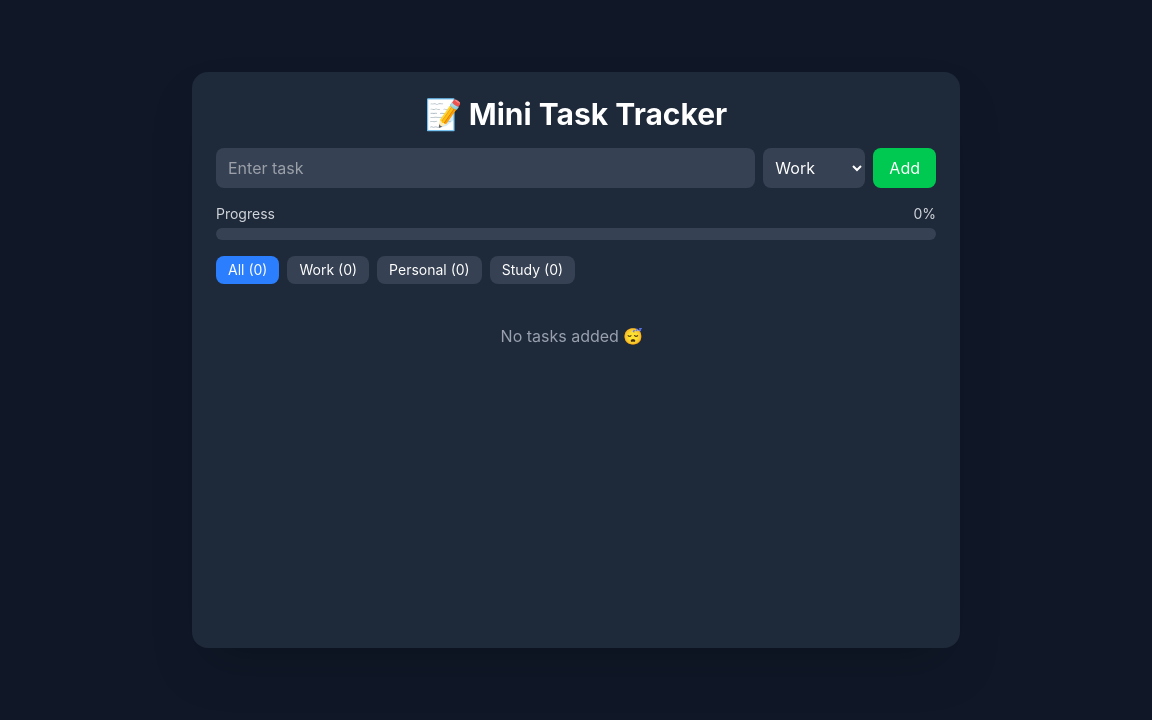
Test: App - Task Tracker › edits a task
Note: Create initial task
Type "Old Task" into the field at (486, 168), box [216,148,755,188]
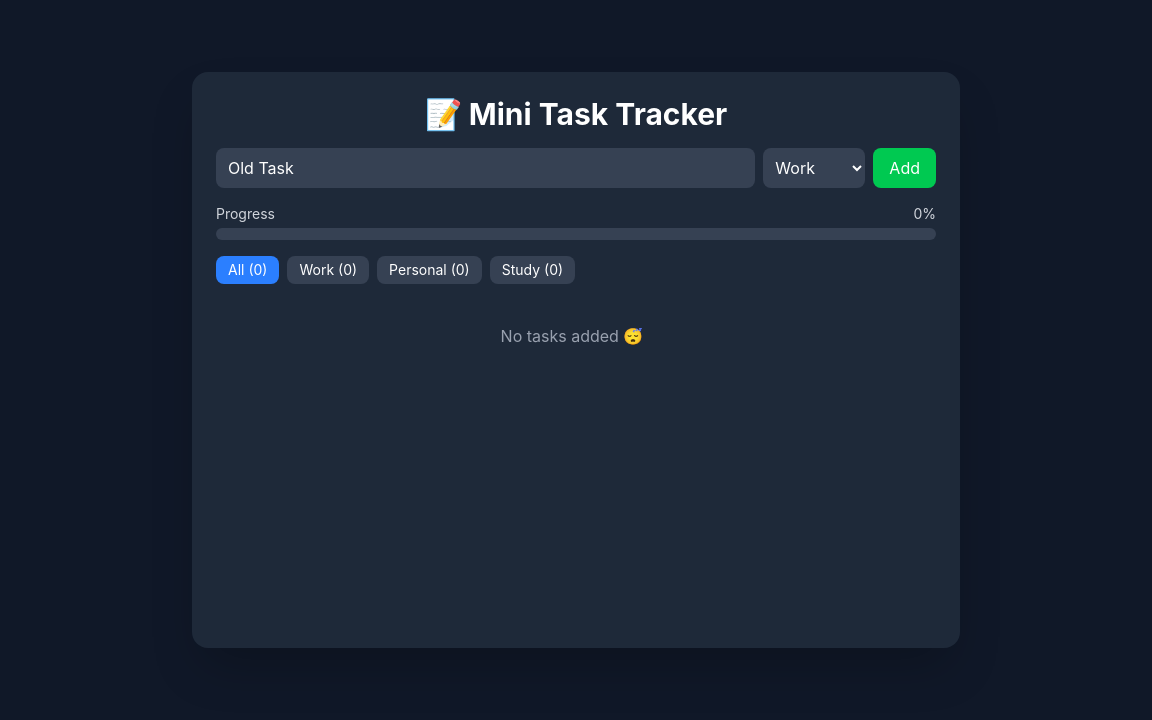
Click the button "Add" at (905, 168), box [873,148,936,188]
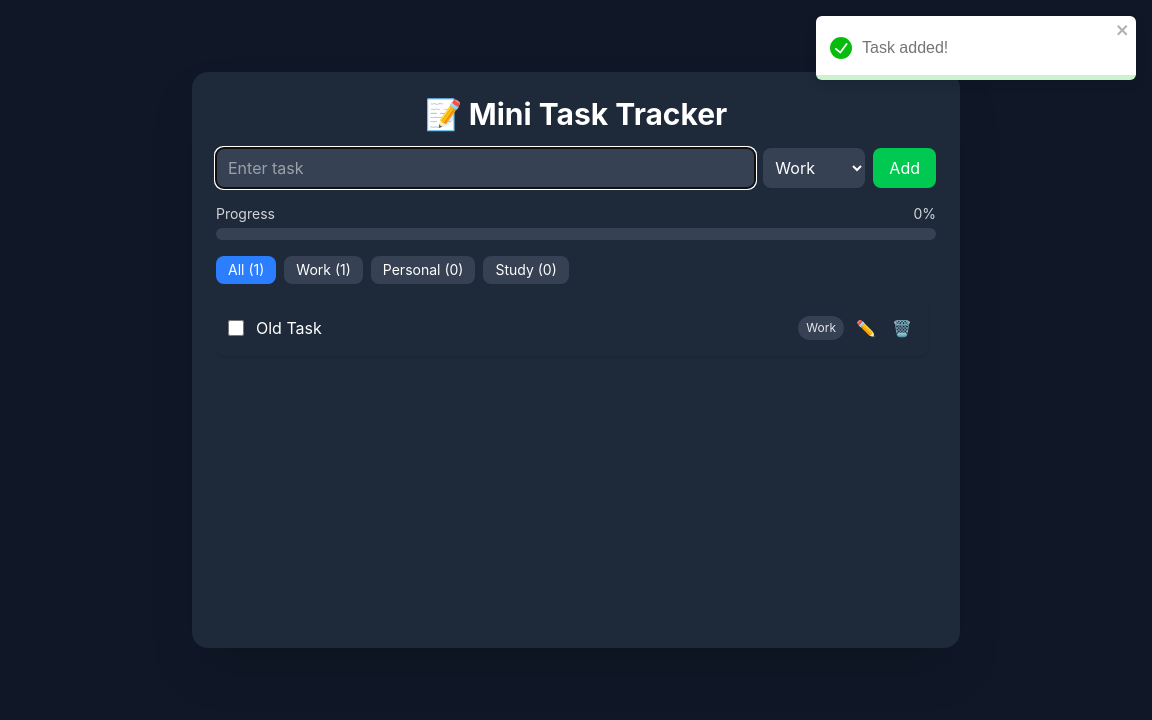
Click the button titled "Edit" at (866, 328), box [852,312,880,344]
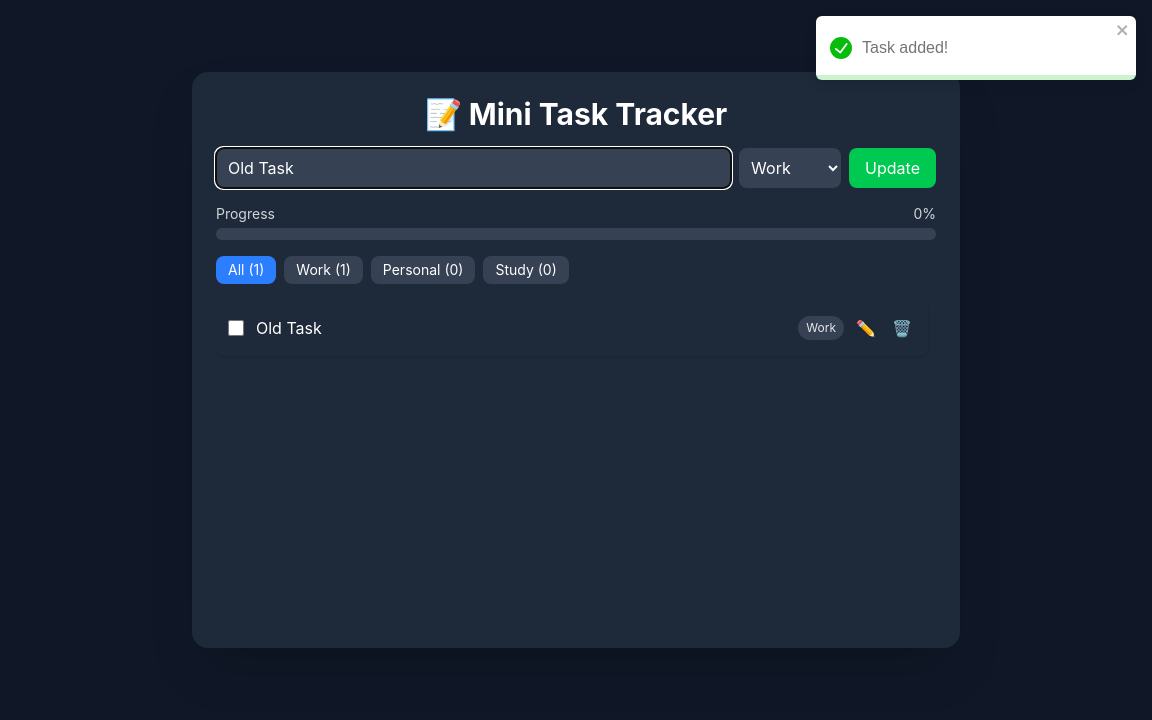
Replace the text in the field with "Updated Task" at (474, 168), box [216,148,731,188]
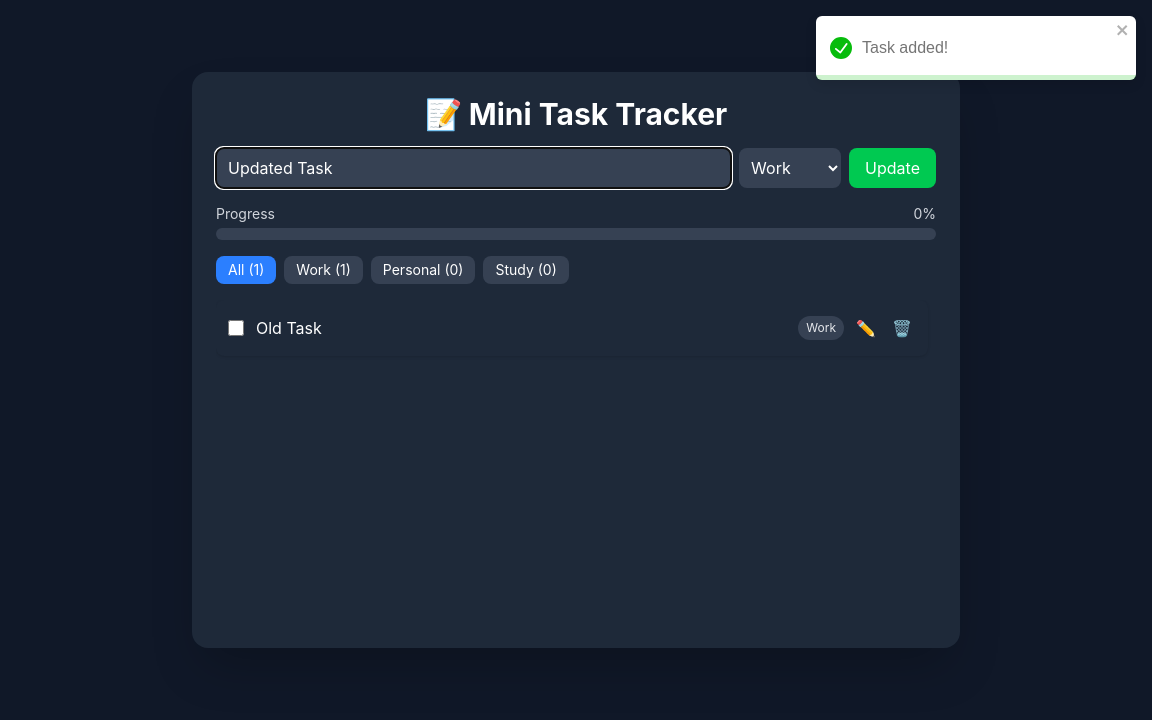
Click the button named "add" at (893, 168), box [849,148,936,188]
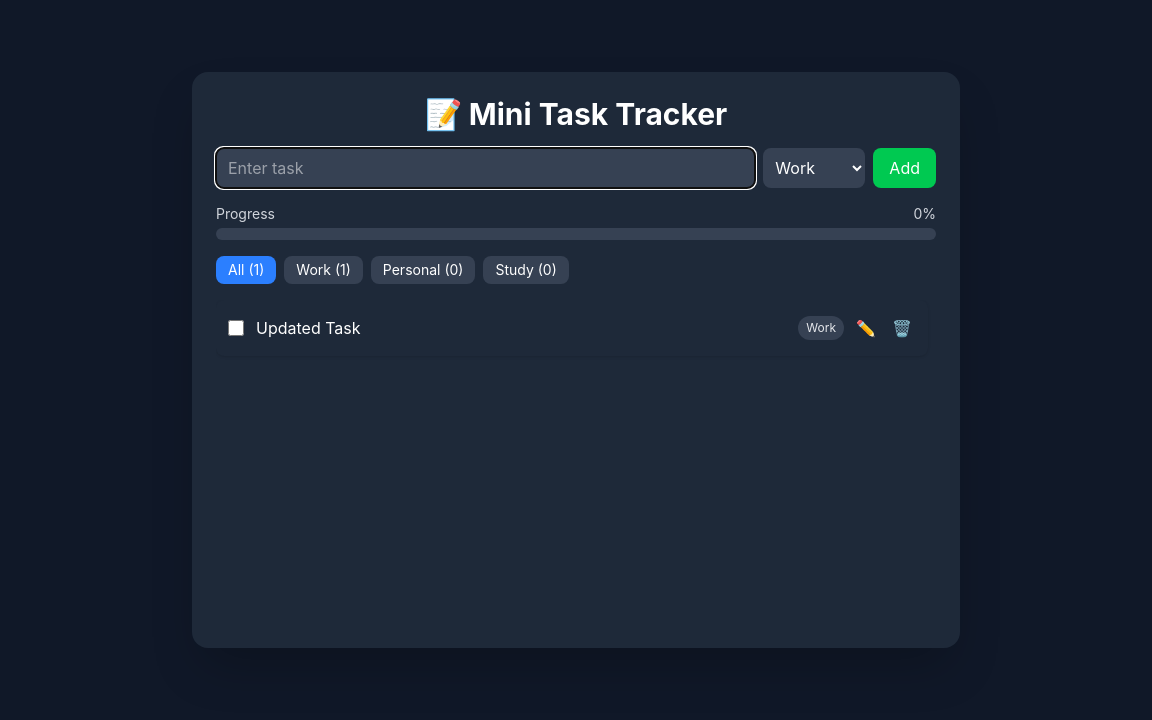
Result: the text "Updated Task" is shown at [256,316,361,340]
Result: the text "Old Task" is gone
